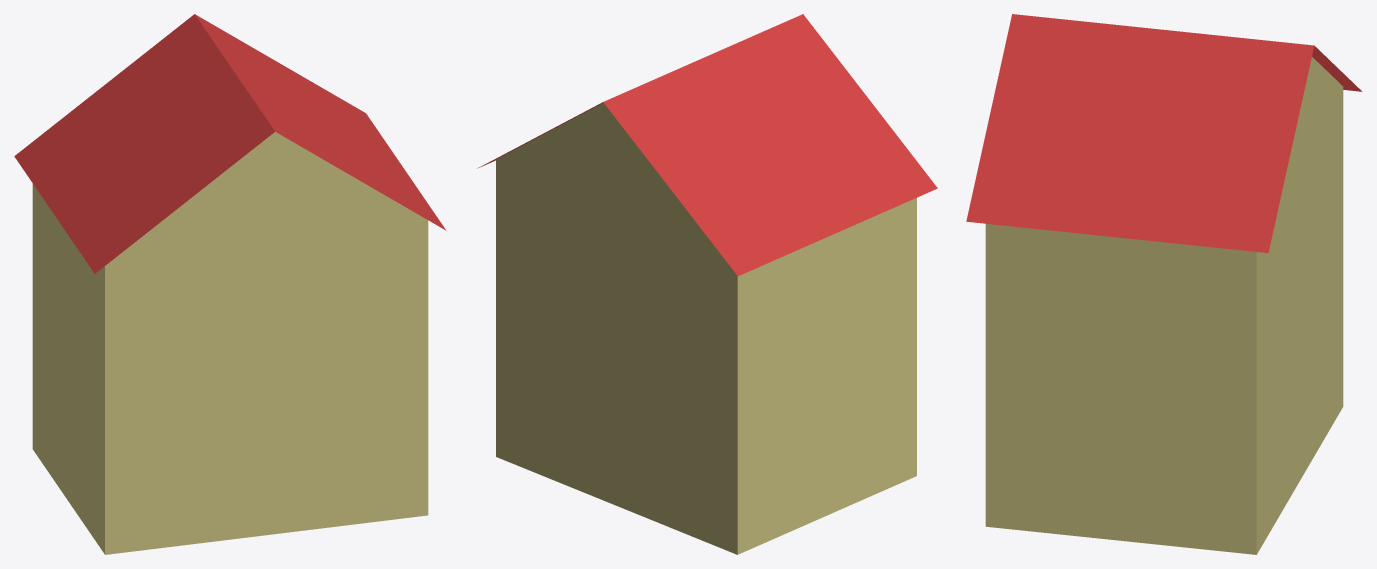
The picture shows the model from 3 angles, left to right: view 1: azimuth 30°, elevation 25°; view 2: azimuth 150°, elevation 25°; view 3: azimuth 270°, elevation 25°; orthographic projection. The views are drawn at different scales.
Size of the model in its own units: 14.18 by 12.32 by 15.05.
